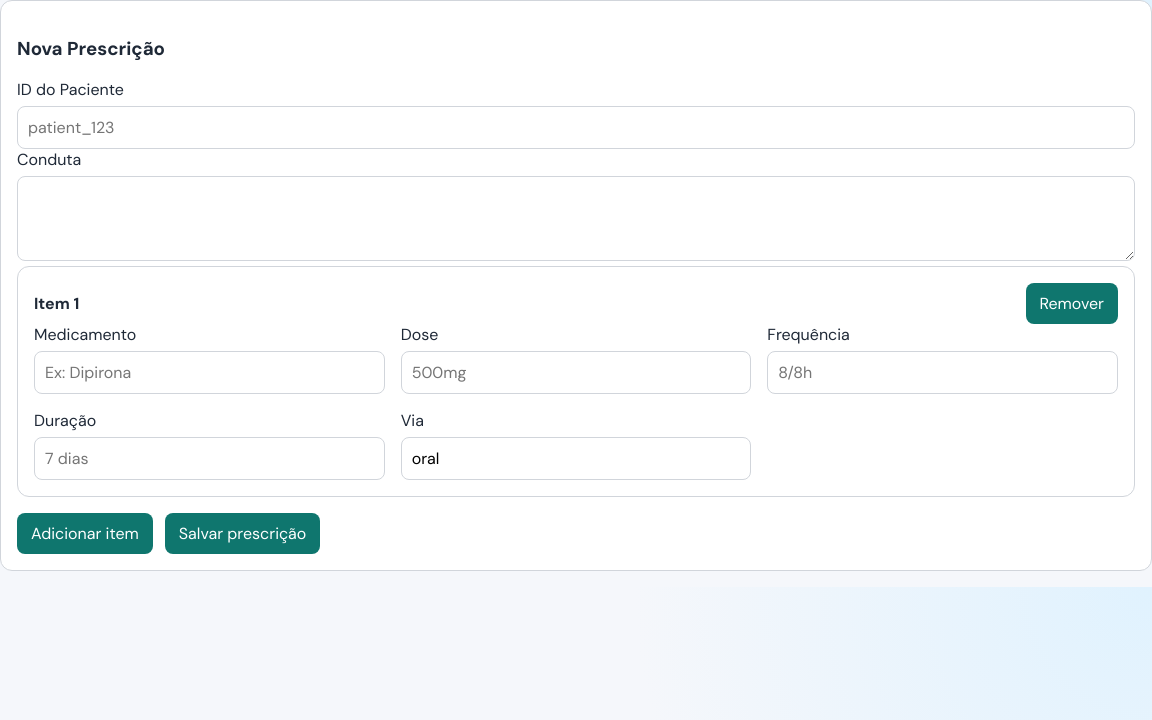
PrescriptionForm › exige campos obrigatórios
Click the button "Salvar prescrição": (243,534) [165,513,320,554]
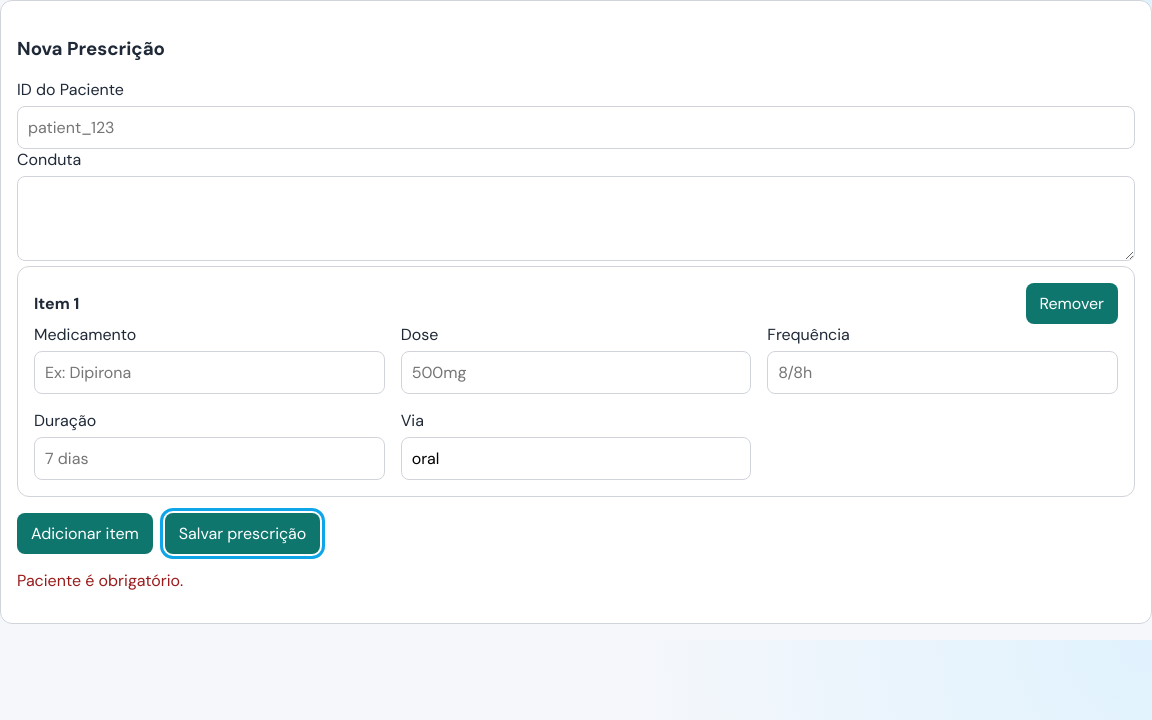
Result: the text "Paciente é obrigatório." is shown at [17,570,183,591]
